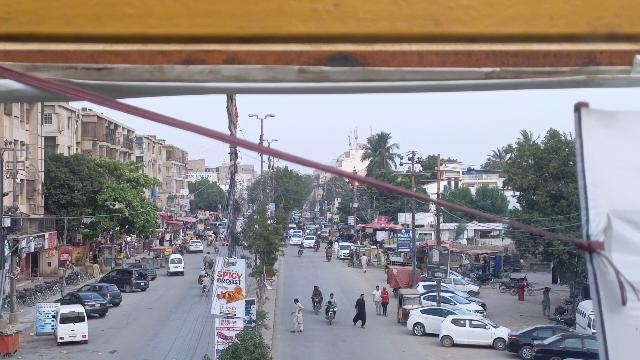Bike: (324, 304, 339, 326), (310, 295, 324, 315), (201, 283, 211, 296), (297, 246, 306, 257)
Car: (438, 313, 510, 350), (505, 318, 568, 357), (53, 291, 108, 317), (100, 266, 150, 293), (77, 281, 124, 307)
Person: (289, 296, 307, 333), (352, 292, 368, 329), (539, 283, 553, 317), (371, 284, 382, 316), (381, 286, 390, 318), (326, 292, 338, 307), (311, 285, 323, 297), (202, 274, 211, 286), (297, 241, 305, 248)
Rickshaw: (396, 287, 422, 327)
Van: (52, 304, 90, 343), (166, 251, 186, 278)
